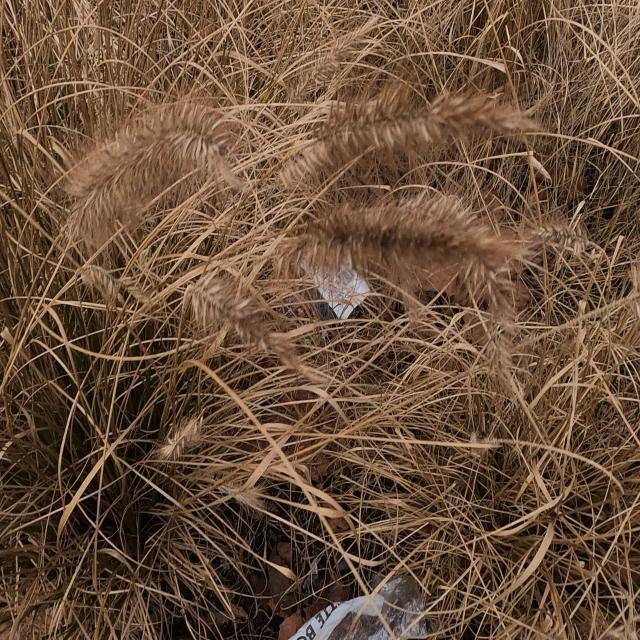Paper: (299, 249, 372, 326)
